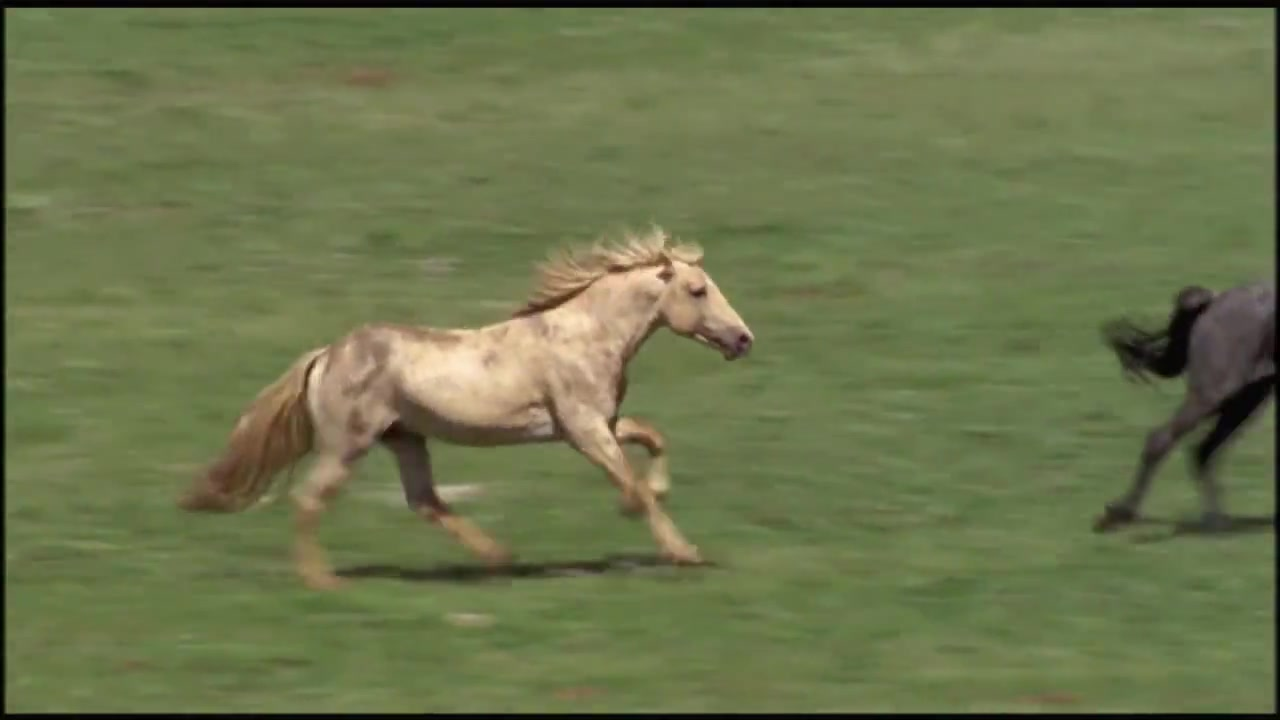horse: (178, 217, 757, 596)
